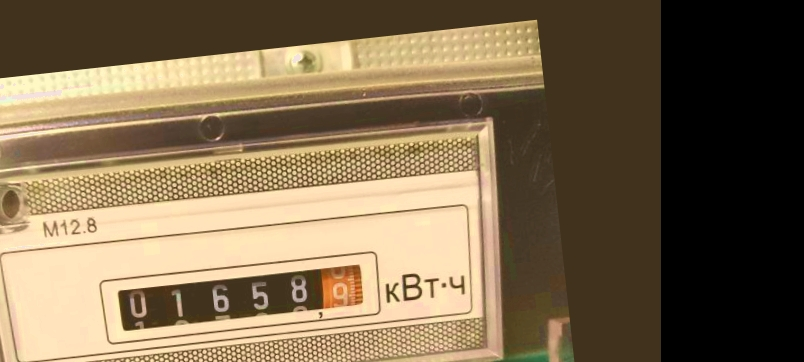0: (125, 286, 150, 320)
1: (169, 286, 186, 318)
5: (249, 278, 271, 311)
6: (209, 281, 232, 314)
8: (288, 271, 310, 305)
9: (329, 279, 349, 307)
screen: (90, 240, 388, 350)
